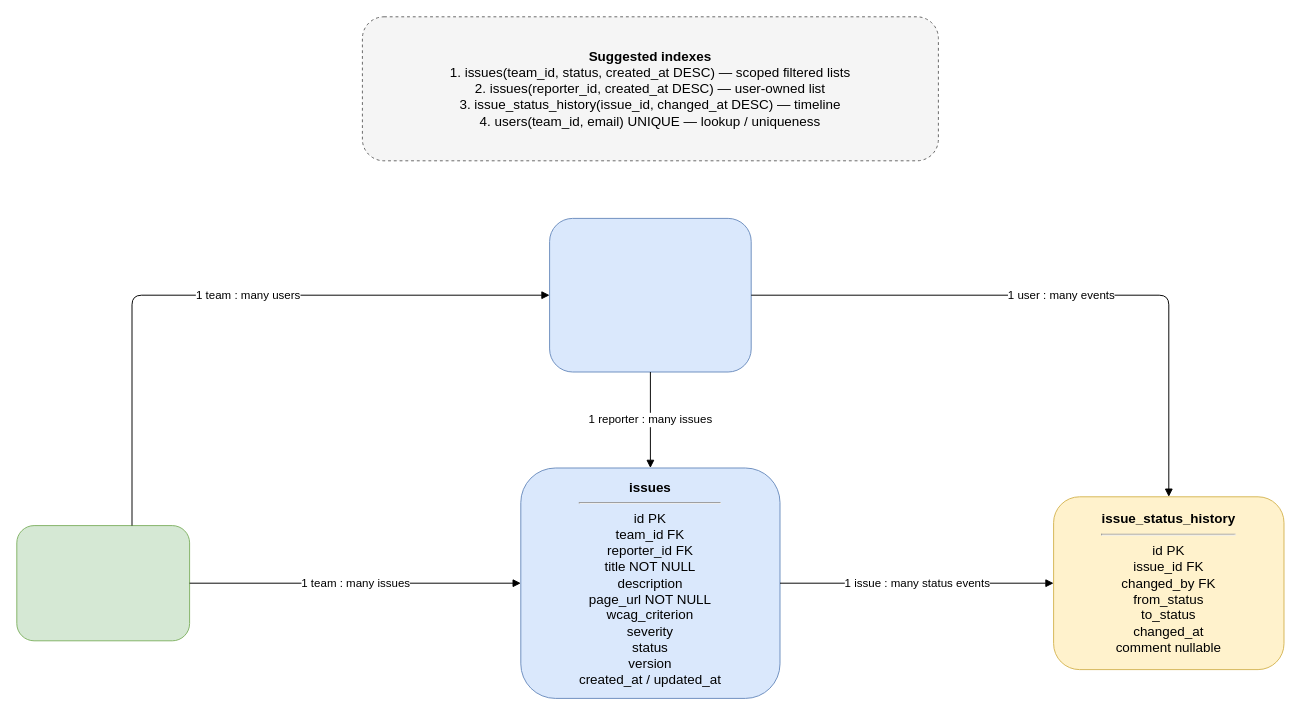
The diagram is 1301 pixels wide and 715 high, and some of its shapes have lost their labels. The shapes that lost their labels are listed below. From the top down, each one's centre as x and y in pixels, then its label:
the point at 650,294: users id PK team_id FK email UNIQUE display_name role created_at
the point at 103,583: teams id PK name created_at
